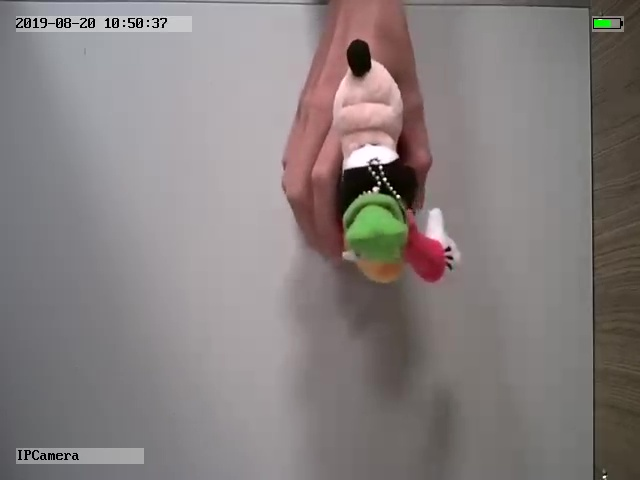goofy: (330, 37, 460, 285)
